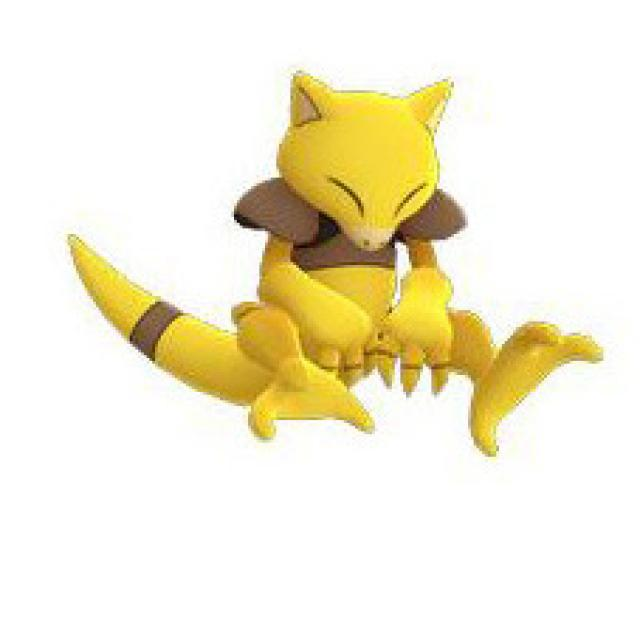Abra: (207, 78, 550, 440)
